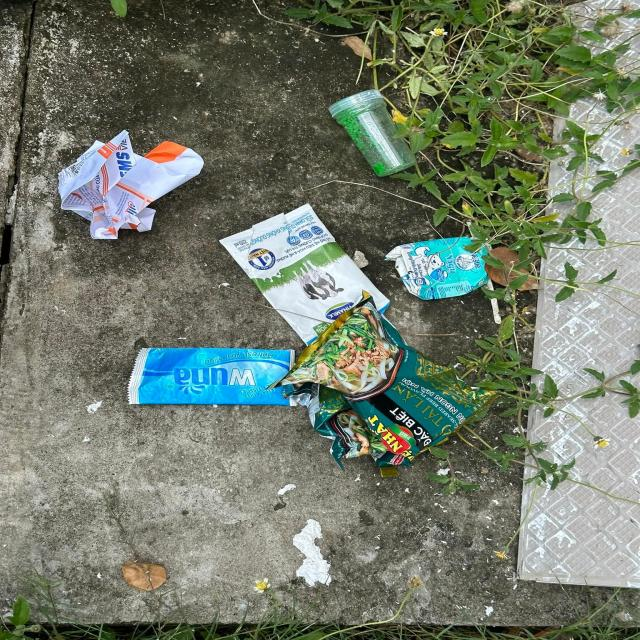milk box: (384, 236, 494, 301)
packet: (218, 203, 391, 347), (128, 347, 299, 408)
paper: (57, 129, 205, 240)
snack package: (267, 290, 500, 478)
